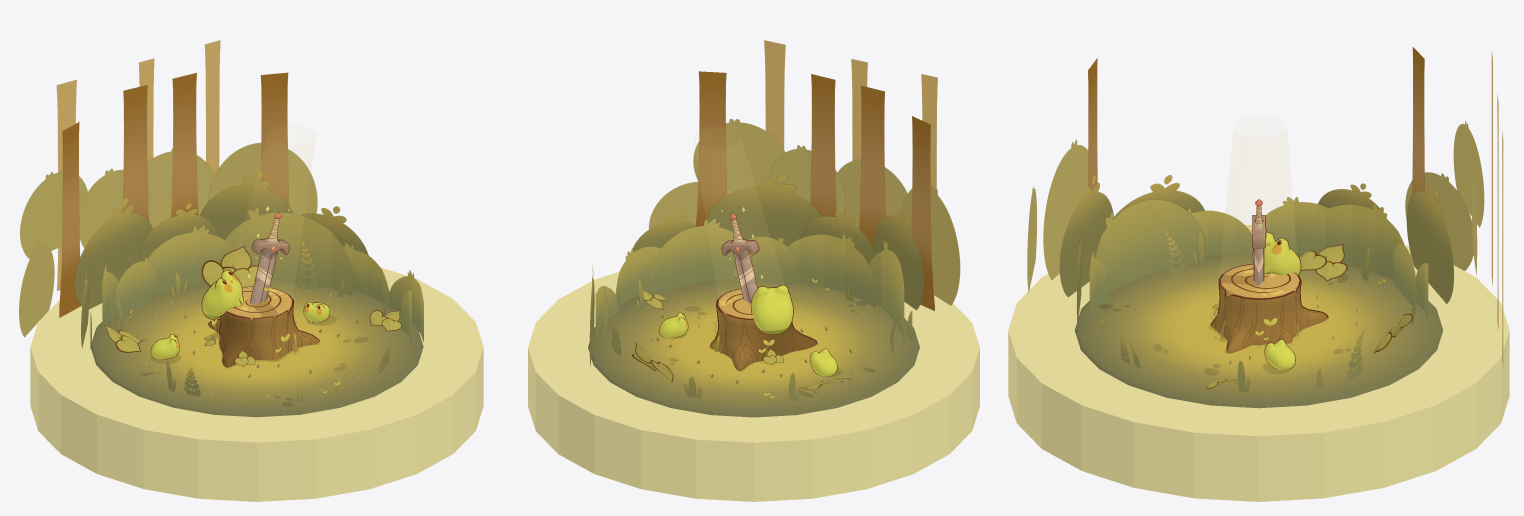
File: magical_find.glb
The picture shows the model from 3 angles, left to right: view 1: azimuth 30°, elevation 25°; view 2: azimuth 150°, elevation 25°; view 3: azimuth 270°, elevation 25°; orthographic projection. The views are drawn at different scales.
Visible parts, largest first — view 1: Base, Background, Stump, Sword, Frog_1, Leaf_2.002, Leaft_3.001, Frog_2, Leaf_2.001; view 2: Base, Background, Stump, Frog_1, Sword, Frog_2, Frog_3; view 3: Base, Background, Stump, Frog_1, Leaf_2.001, Sword, Frog_3.
Part boxes in pixels (bbox=[...]): Base: bbox=[30, 267, 483, 501]; Background: bbox=[19, 40, 423, 349]; Stump: bbox=[208, 286, 319, 367]; Sword: bbox=[249, 212, 289, 303]; Frog_1: bbox=[201, 269, 243, 319]; Leaf_2.002: bbox=[201, 245, 257, 287]; Leaft_3.001: bbox=[296, 240, 319, 289]; Frog_2: bbox=[150, 334, 179, 359]; Leaf_2.001: bbox=[104, 325, 141, 352]; Base: bbox=[528, 271, 979, 501]; Background: bbox=[589, 40, 960, 366]; Stump: bbox=[709, 288, 817, 371]; Frog_1: bbox=[750, 284, 793, 334]; Sword: bbox=[721, 213, 759, 303]; Frog_2: bbox=[809, 348, 837, 376]; Frog_3: bbox=[659, 312, 688, 337]; Base: bbox=[1008, 224, 1509, 501]; Background: bbox=[1027, 47, 1503, 366]; Stump: bbox=[1210, 264, 1328, 353]; Frog_1: bbox=[1251, 232, 1301, 275]; Leaf_2.001: bbox=[1300, 244, 1347, 281]; Sword: bbox=[1251, 199, 1267, 285]; Frog_3: bbox=[1264, 339, 1295, 370].
Bounding box in the file's own units: 13.6 × 9.57 × 13.6.
7 materials, 7 textured.
